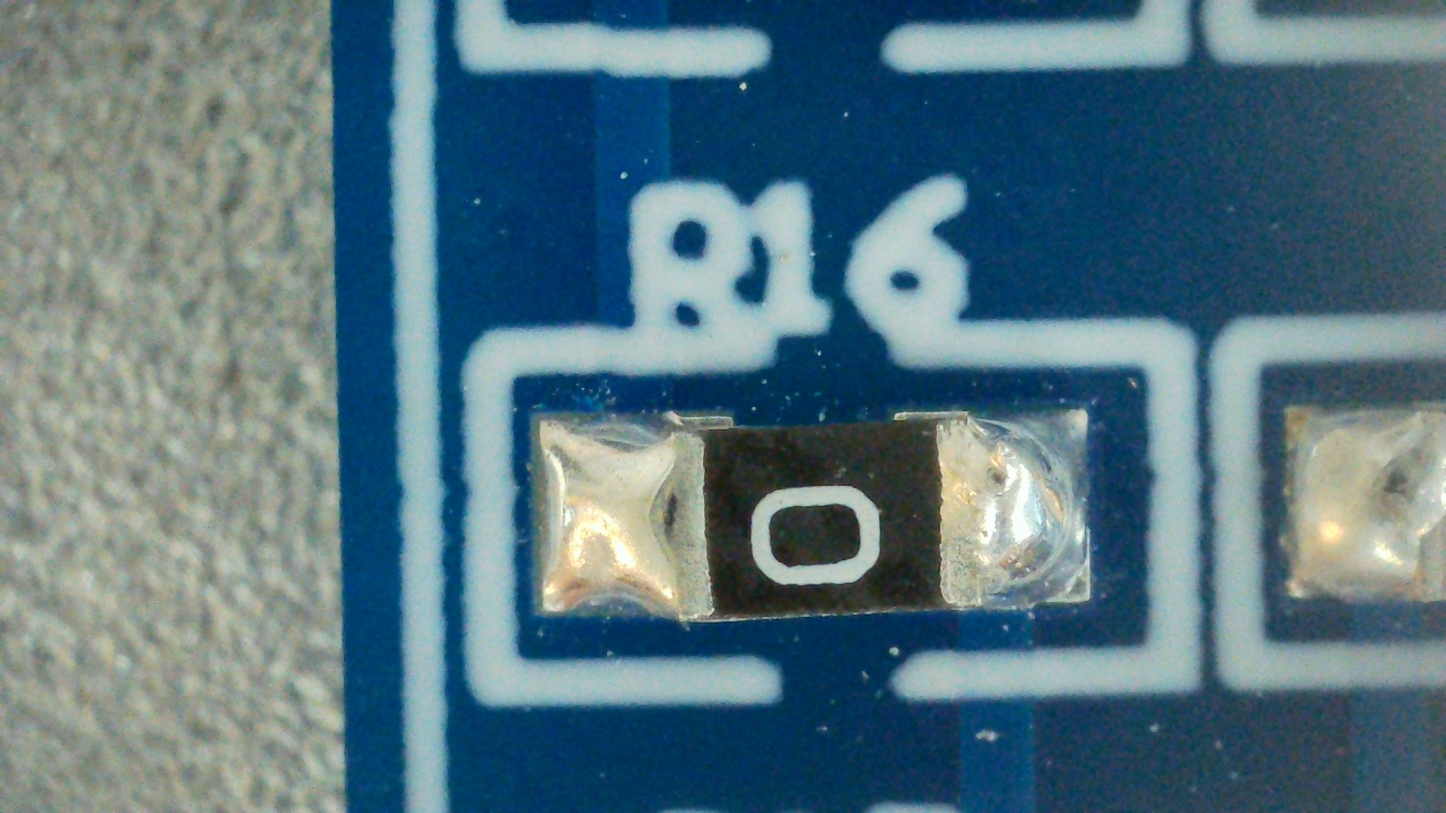NG: (535, 411, 1091, 624)
